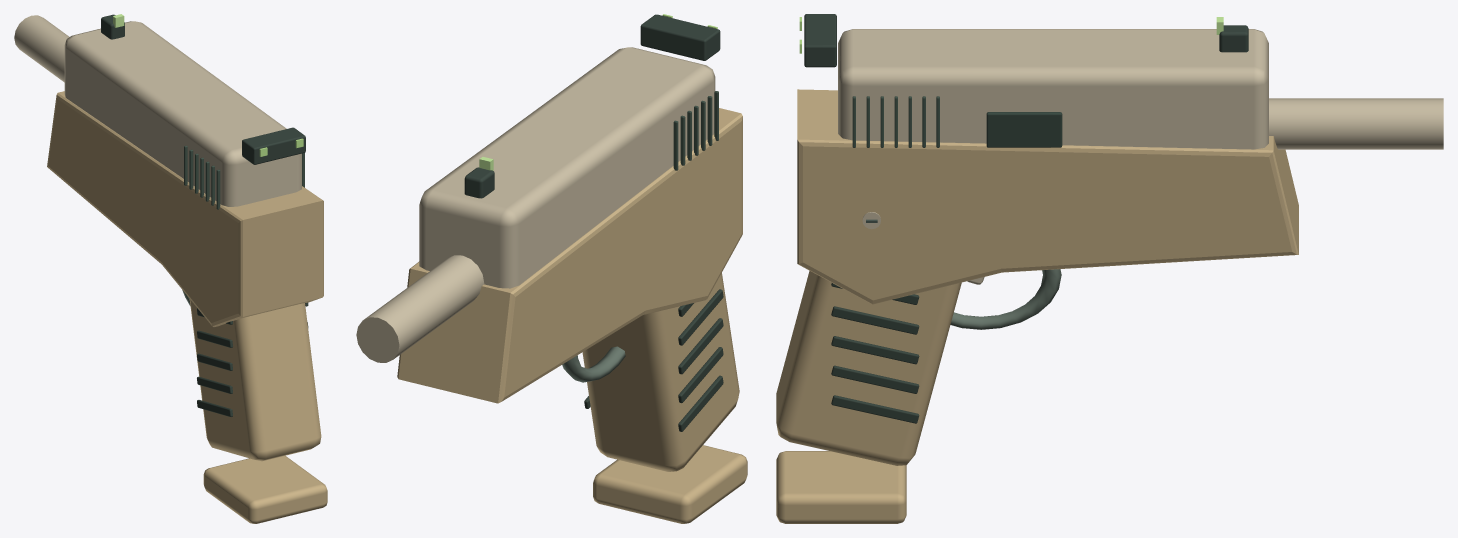
Rendered from deagle.glb.
3 views of the same model, side by side, from view 1: azimuth 30°, elevation 25°; view 2: azimuth 150°, elevation 25°; view 3: azimuth 270°, elevation 25° (orthographic). The views are drawn at different scales.
Parts seen in each view (by area): view 1: deagle, bolt, magazine; view 2: deagle, bolt, magazine; view 3: deagle, bolt, magazine.
Part boxes in pixels (bbox=[...]): deagle: bbox=[14, 14, 323, 461]; bolt: bbox=[64, 21, 304, 209]; magazine: bbox=[203, 455, 327, 523]; deagle: bbox=[356, 14, 742, 471]; bolt: bbox=[419, 47, 718, 288]; magazine: bbox=[593, 445, 747, 523]; deagle: bbox=[776, 14, 1443, 465]; bolt: bbox=[838, 29, 1268, 149]; magazine: bbox=[776, 451, 906, 523].
Bounding box in the file's own units: 0.1133 × 0.4579 × 0.573.
